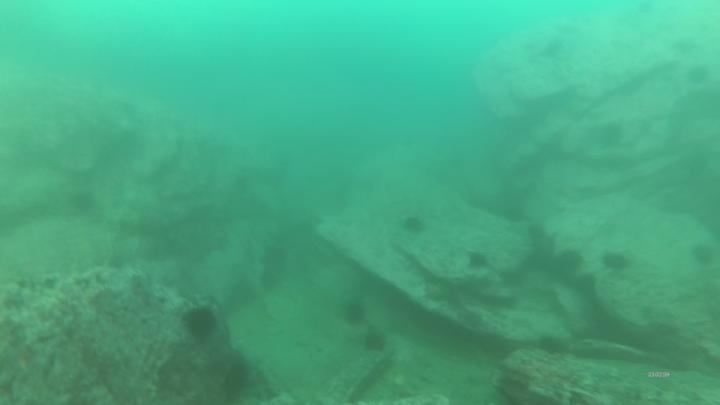starfish: (184, 310, 213, 339), (367, 333, 385, 352), (347, 304, 365, 323), (403, 216, 423, 232), (605, 254, 625, 269), (468, 252, 486, 267)
